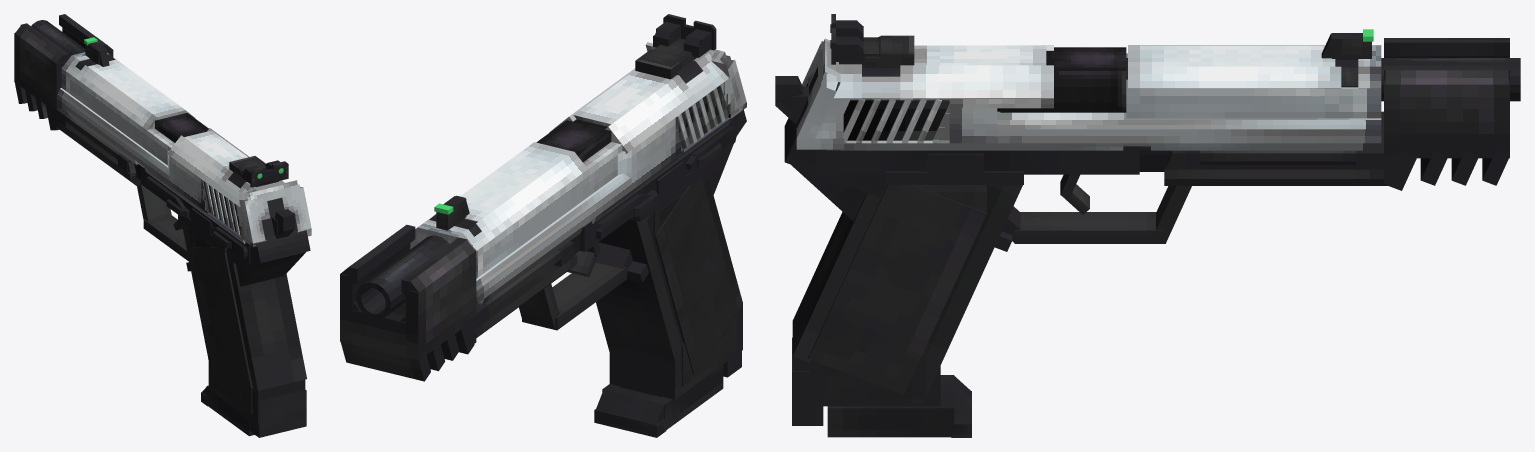
3 views of the same model, side by side, from view 1: azimuth 30°, elevation 25°; view 2: azimuth 150°, elevation 25°; view 3: azimuth 270°, elevation 25° (orthographic). The views are drawn at different scales.
Parts seen in each view (by area): view 1: grip_main_slope_271, grip_texture_base_263, l_comp_base_191, mid_top_a_47, grip_main_cube_273, mid_mid_a_50, lid_rear_c_19, lid_front_a_15, grip_back_tilt_a_229, grip_top_tilt_269, grip_main_bottom_272, mid_base_53 (+29 smaller); view 2: grip_texture_base_263, grip_main_slope_271, l_comp_base_191, grip_main_bottom_272, mid_top_a_47, mid_mid_a_50, lid_rear_c_19, lid_front_a_15, guard_bottom_278, mid_rear_c_42, mid_base_53, comp_mid_bloc_184 (+40 smaller); view 3: grip_texture_base_263, grip_main_slope_271, r_comp_base_194, mid_mid_a_50, frame_main_rear_233, lid_rear_c_77, chamber_base_curve_0, mid_base_53, lid_front_a_72, guard_bottom_278, Grip_217, mid_top_a_47 (+33 smaller).
Part boxes in pixels (bbox=[...]): grip_main_slope_271: bbox=[181, 221, 306, 391]; grip_texture_base_263: bbox=[191, 247, 252, 388]; l_comp_base_191: bbox=[14, 33, 65, 109]; mid_top_a_47: bbox=[88, 59, 185, 120]; grip_main_cube_273: bbox=[248, 389, 306, 437]; mid_mid_a_50: bbox=[61, 68, 154, 149]; lid_rear_c_19: bbox=[167, 135, 232, 190]; lid_front_a_15: bbox=[75, 65, 158, 129]; grip_back_tilt_a_229: bbox=[227, 229, 310, 263]; grip_top_tilt_269: bbox=[235, 252, 305, 286]; grip_main_bottom_272: bbox=[208, 355, 305, 425]; mid_base_53: bbox=[57, 94, 169, 184]; grip_texture_base_263: bbox=[654, 177, 738, 374]; grip_main_slope_271: bbox=[596, 178, 742, 390]; l_comp_base_191: bbox=[406, 250, 476, 360]; grip_main_bottom_272: bbox=[609, 303, 742, 399]; mid_top_a_47: bbox=[460, 142, 573, 221]; mid_mid_a_50: bbox=[410, 168, 588, 278]; lid_rear_c_19: bbox=[605, 75, 698, 153]; lid_front_a_15: bbox=[475, 151, 587, 240]; guard_bottom_278: bbox=[522, 262, 626, 330]; mid_rear_c_42: bbox=[573, 70, 678, 126]; mid_base_53: bbox=[476, 178, 631, 303]; comp_mid_bloc_184: bbox=[352, 302, 405, 357]; grip_texture_base_263: bbox=[808, 185, 986, 394]; grip_main_slope_271: bbox=[792, 185, 1022, 404]; r_comp_base_194: bbox=[1384, 80, 1509, 158]; mid_mid_a_50: bbox=[1126, 53, 1381, 118]; frame_main_rear_233: bbox=[815, 146, 1139, 174]; lid_rear_c_77: bbox=[900, 65, 1053, 100]; chamber_base_curve_0: bbox=[1000, 47, 1126, 112]; mid_base_53: bbox=[1046, 129, 1381, 143]; lid_front_a_72: bbox=[1128, 66, 1341, 88]; guard_bottom_278: bbox=[1014, 212, 1165, 243]; Grip_217: bbox=[827, 375, 954, 437]; mid_top_a_47: bbox=[1128, 45, 1335, 66].
Size of the model in its own units: 0.2401 by 0.9624 by 1.65.
Materials: 1 (1 with a texture image).
